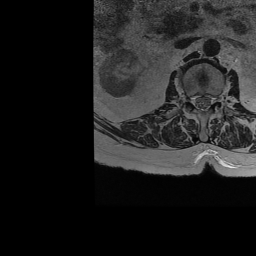CCS_normal: (199, 87, 206, 116)
LFS_normal: (213, 87, 219, 110)
LLS_normal: (206, 87, 213, 112)
RFS_normal: (185, 87, 192, 109)
RLS_normal: (192, 88, 199, 114)
